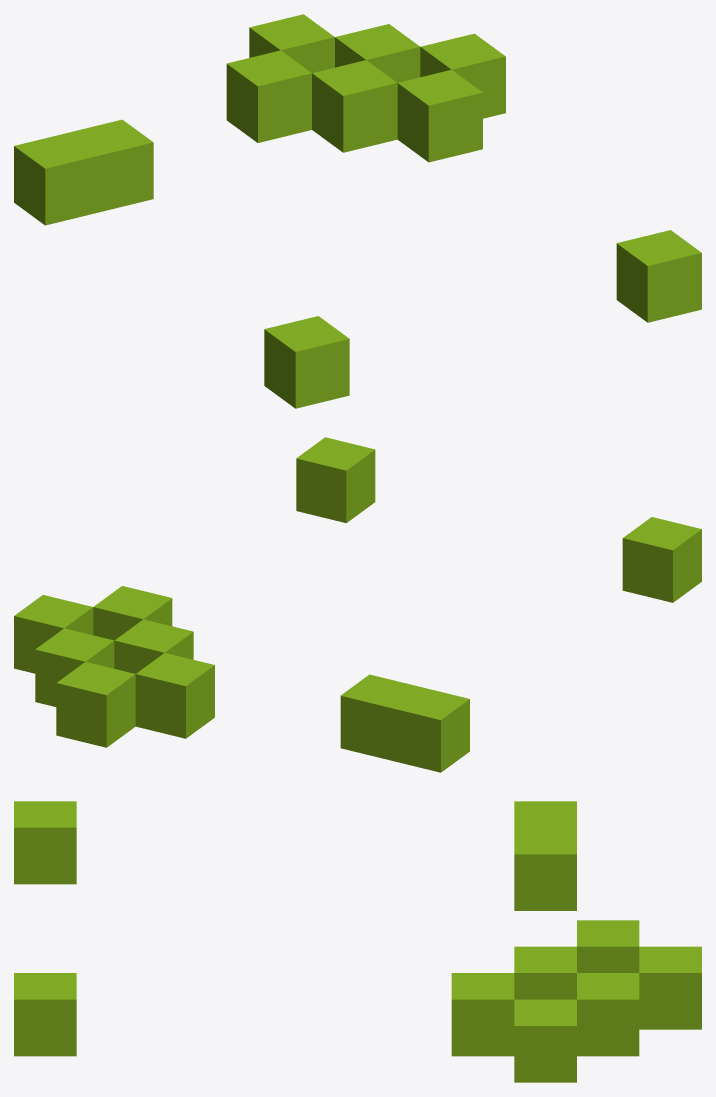
File: carrot1.gltf
The picture shows the model from 3 angles, top to bottom: view 1: azimuth 30°, elevation 25°; view 2: azimuth 150°, elevation 25°; view 3: azimuth 270°, elevation 25°; orthographic projection. The views are drawn at different scales.
Visible parts, largest first — view 1: cube (×10); view 2: cube (×10); view 3: cube (×10).
Boxes of the visible parts, box(x1,y1,x2,y2) form: cube (×10): box(14, 14, 701, 408); cube (×10): box(14, 437, 701, 772); cube (×10): box(14, 801, 701, 1082).
Bounding box in the file's own units: 0.5312 × 0.0625 × 0.6875.
Materials: 1 (1 with a texture image).
